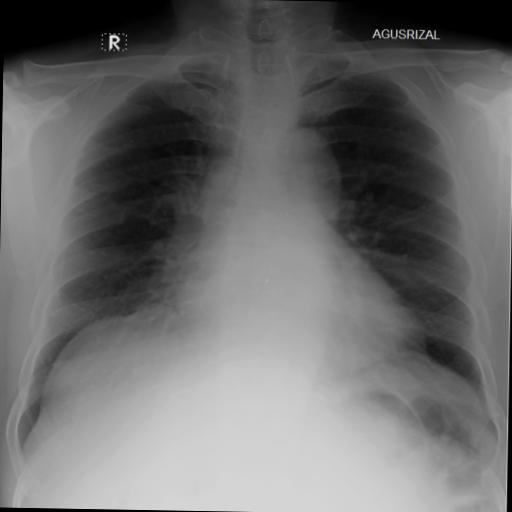kardiomegali: (10, 28, 512, 465)
